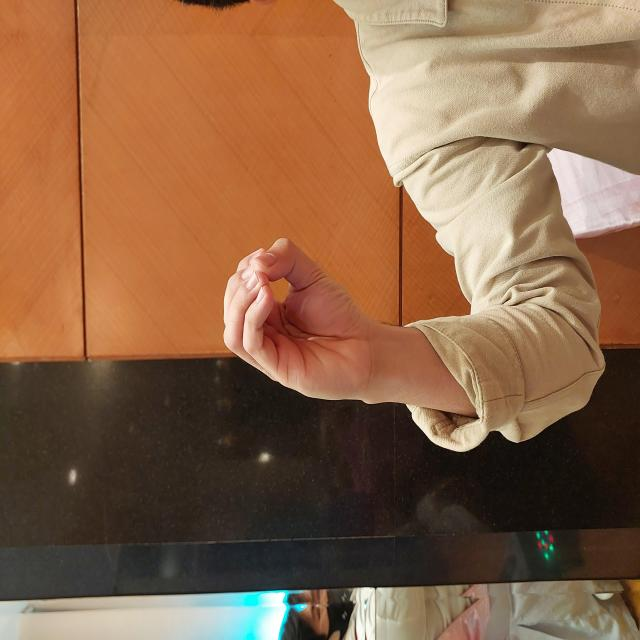O: (236, 221, 405, 370)
